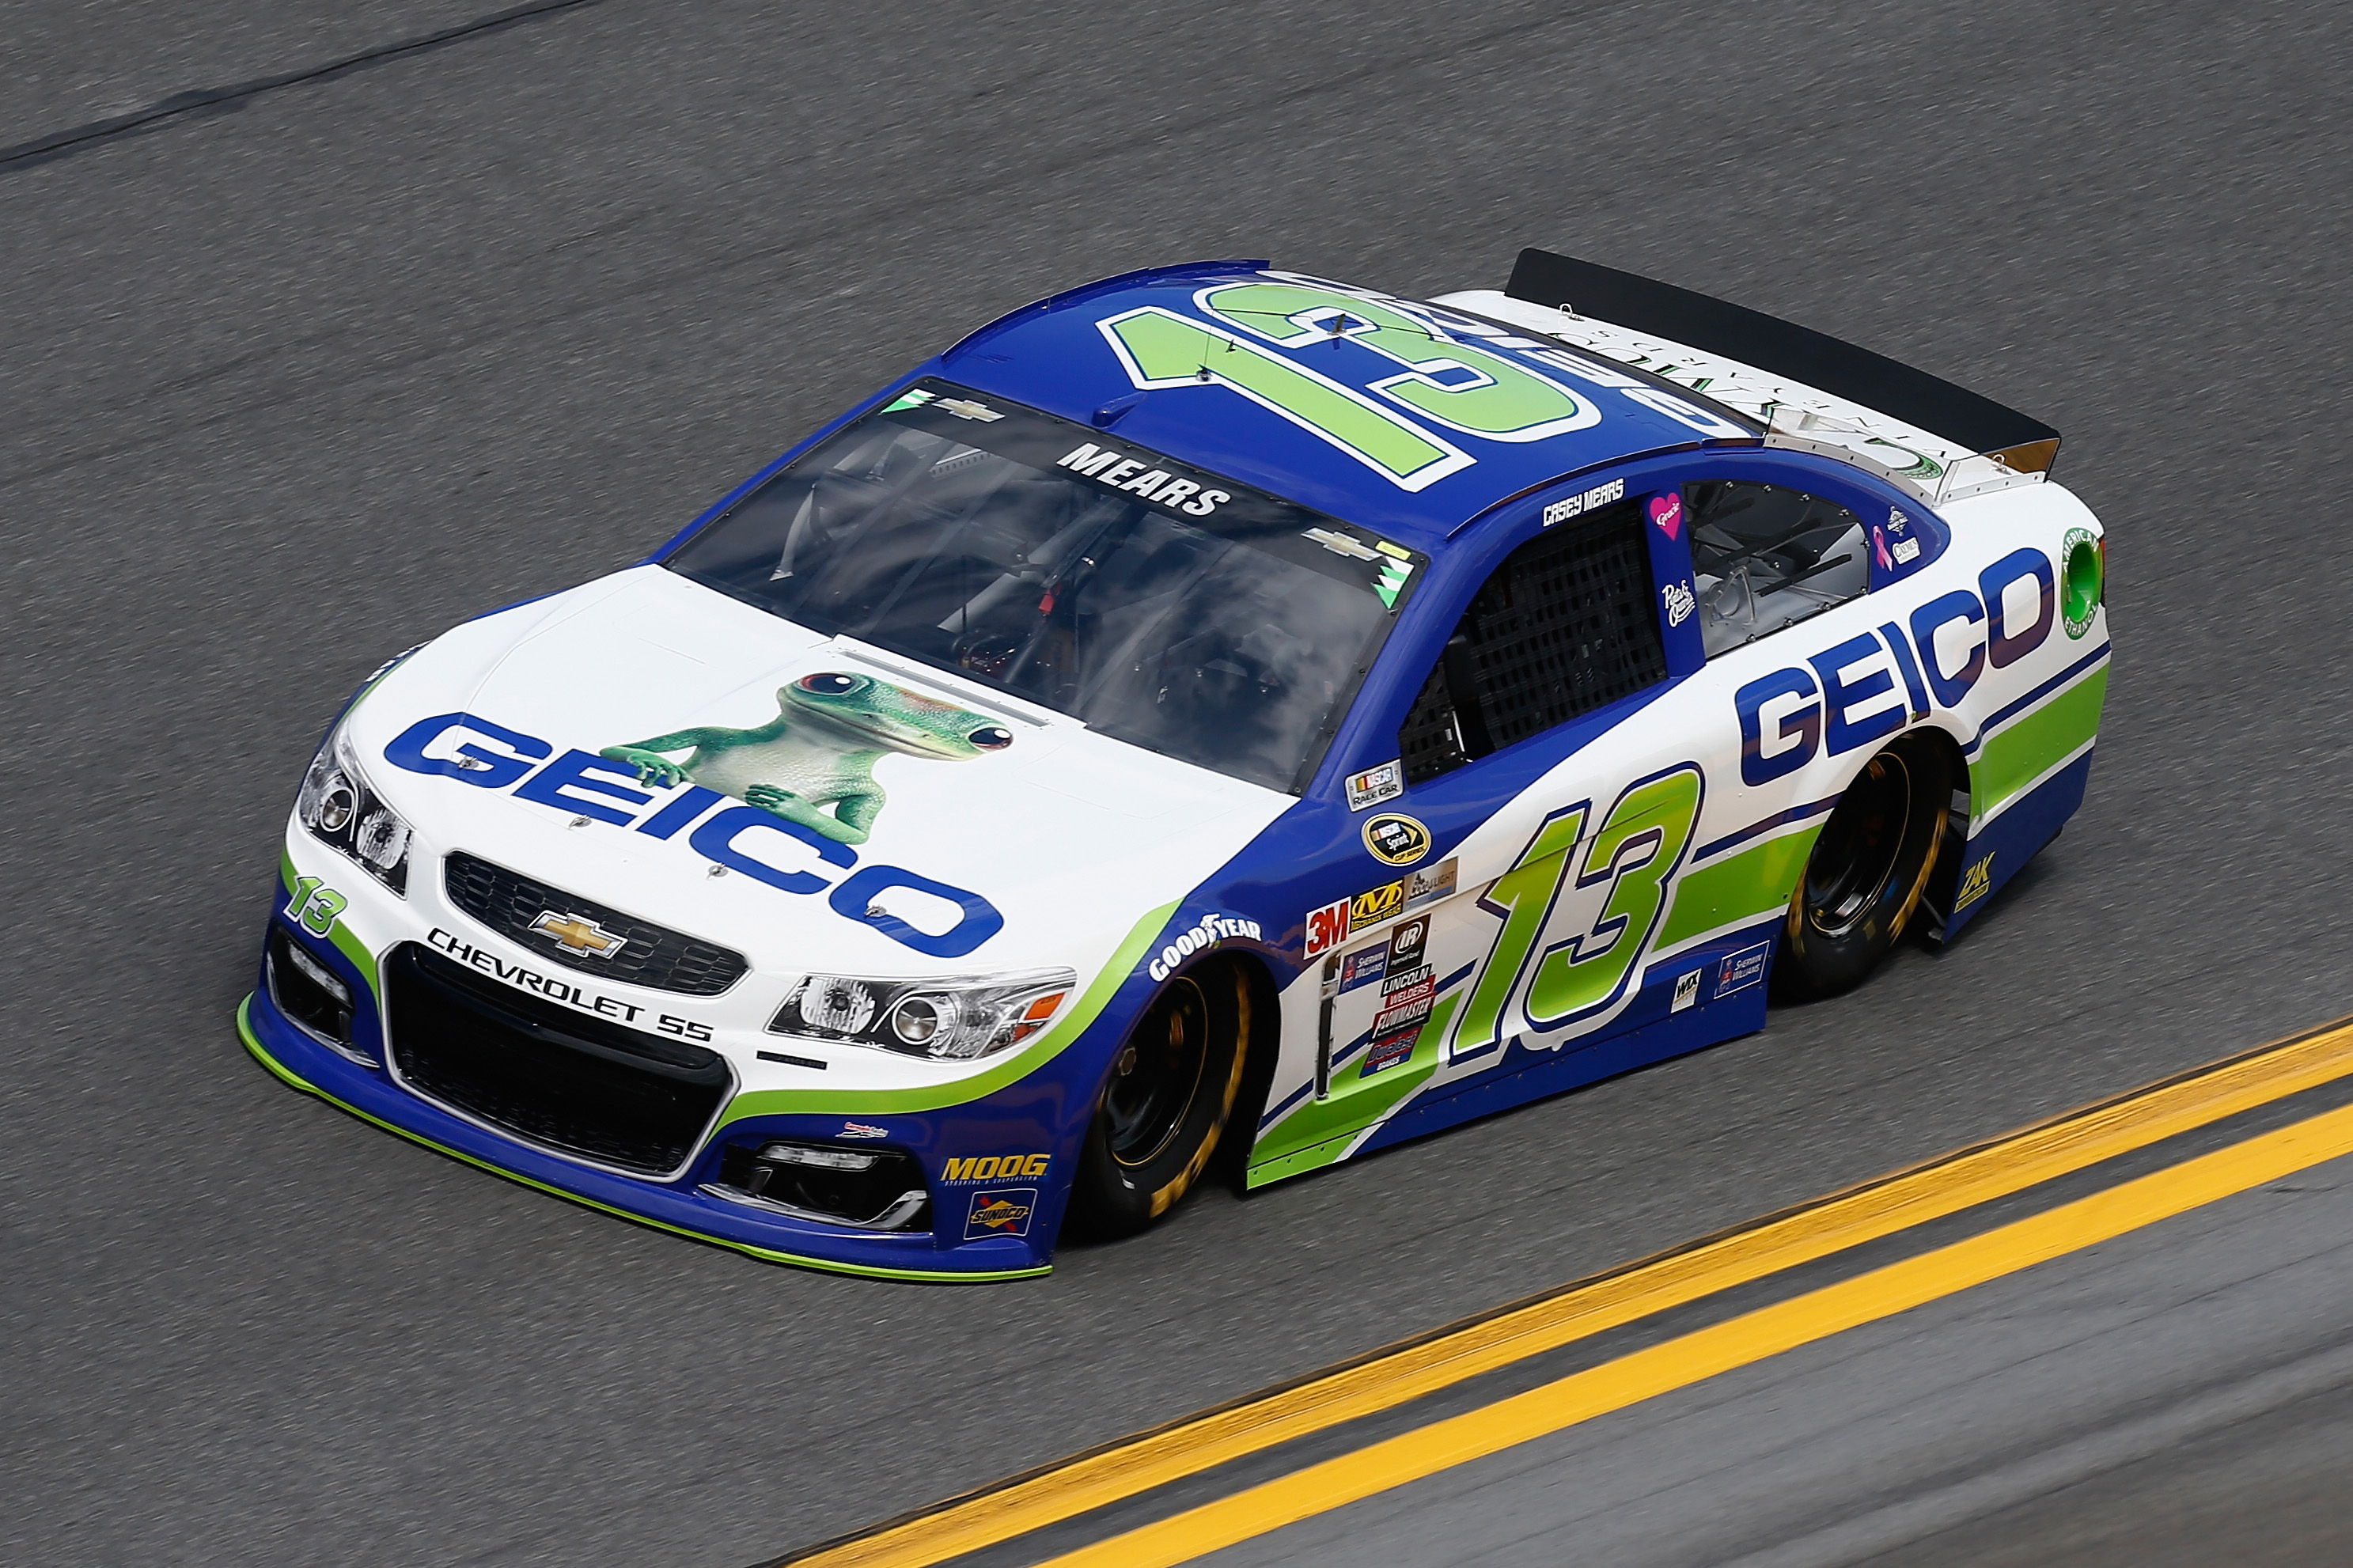Geico: (371, 691, 1006, 971), (1732, 562, 2082, 780)
